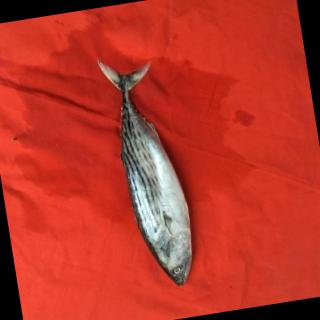Ikan: (91, 42, 215, 300)
